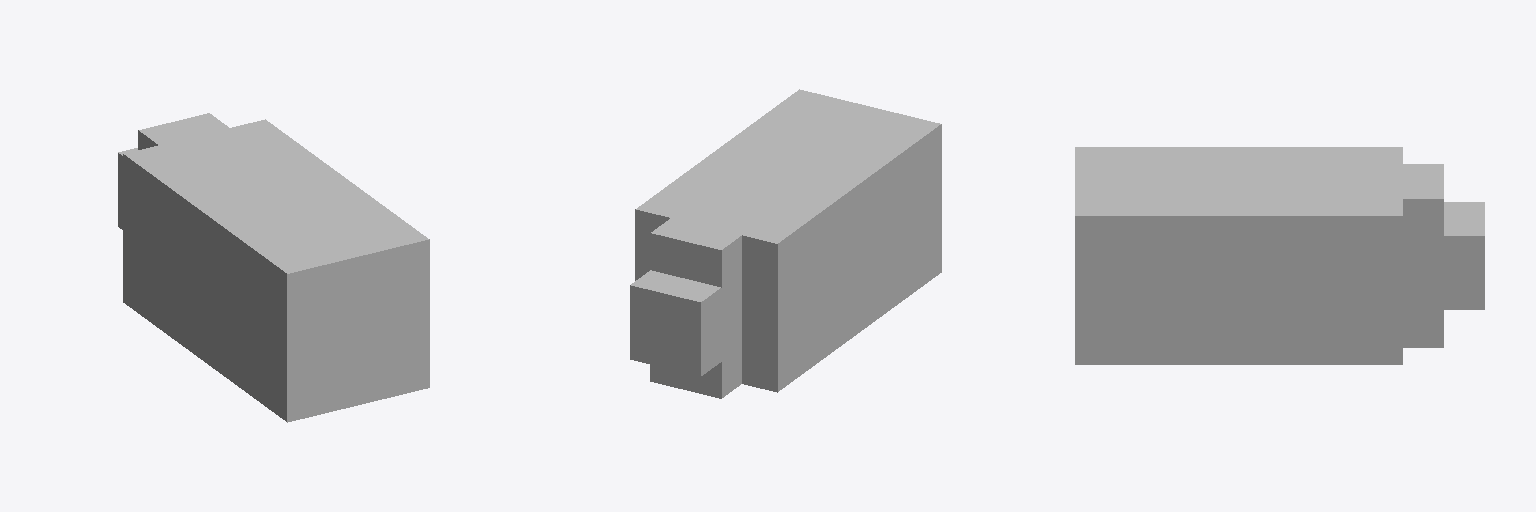
The model's file is arrow.obj.
3 renders of one model, left to right at view 1: azimuth 30°, elevation 25°; view 2: azimuth 150°, elevation 25°; view 3: azimuth 270°, elevation 25°, orthographic.
Parts seen in each view (by area): view 1: object 1; view 2: object 1; view 3: object 1.
Part boxes in pixels (left/top/right/bottom): object 1: left=118, top=113, right=429, bottom=422; object 1: left=630, top=89, right=941, bottom=398; object 1: left=1075, top=147, right=1484, bottom=364.
Bounding box in the file's own units: 0.4 × 0.4 × 1.